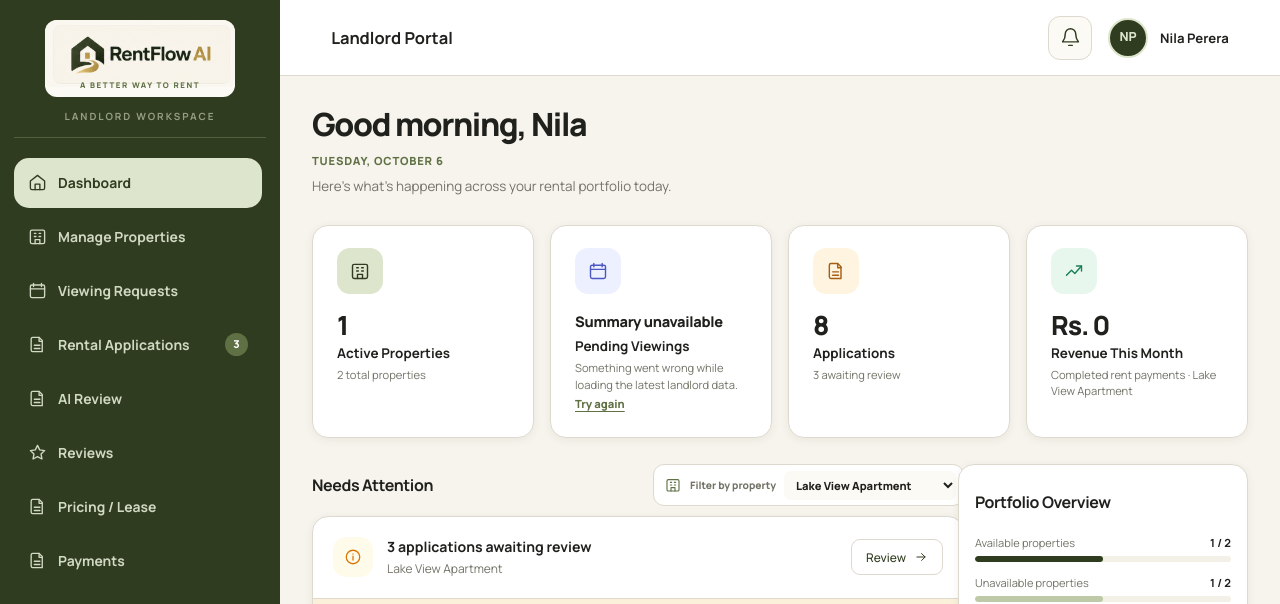
Test: landlord dashboard redesign › shows and retries the viewings error without inventing a zero summary
The width and height of the screenshot is (1280, 604).
Expected: the text "Summary unavailable" is shown, left=575, top=312, right=723, bottom=331
Expected: the text "Something went wrong while loading the latest landlord data." is shown, left=575, top=360, right=747, bottom=393
Click the button "Try again" below "Pending Viewings". click: (600,404)
box: left=575, top=393, right=625, bottom=415
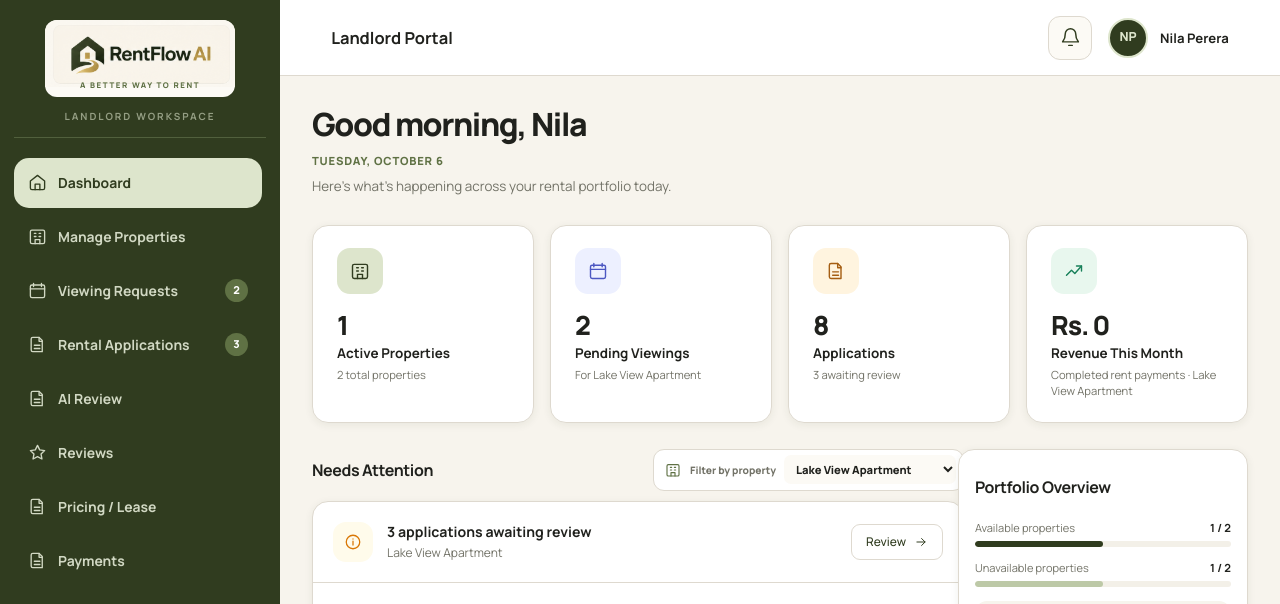
Expected: the text "2" in the row of "Rs. 0" is shown, left=575, top=306, right=590, bottom=342
